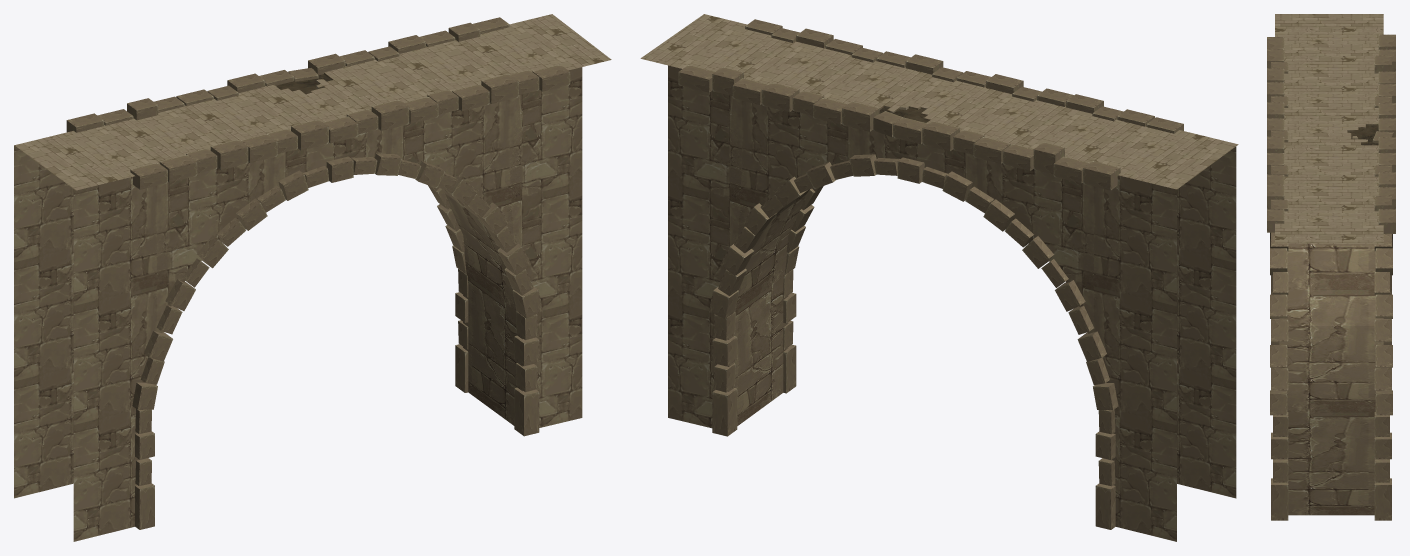
The model's file is bfcs_daolu_02.FBX.
3 renders of one model, left to right at view 1: azimuth 30°, elevation 25°; view 2: azimuth 150°, elevation 25°; view 3: azimuth 270°, elevation 25°, orthographic. The views are drawn at different scales.
Parts seen in each view (by area): view 1: bfcs_daolu_02; view 2: bfcs_daolu_02; view 3: bfcs_daolu_02.
Boxes of the visible parts, x1,y1,x2,y2 form: bfcs_daolu_02: (14,14,611,541); bfcs_daolu_02: (640,14,1238,541); bfcs_daolu_02: (1267,14,1395,520).
Size of the model in its own units: 960 by 619 by 227.
